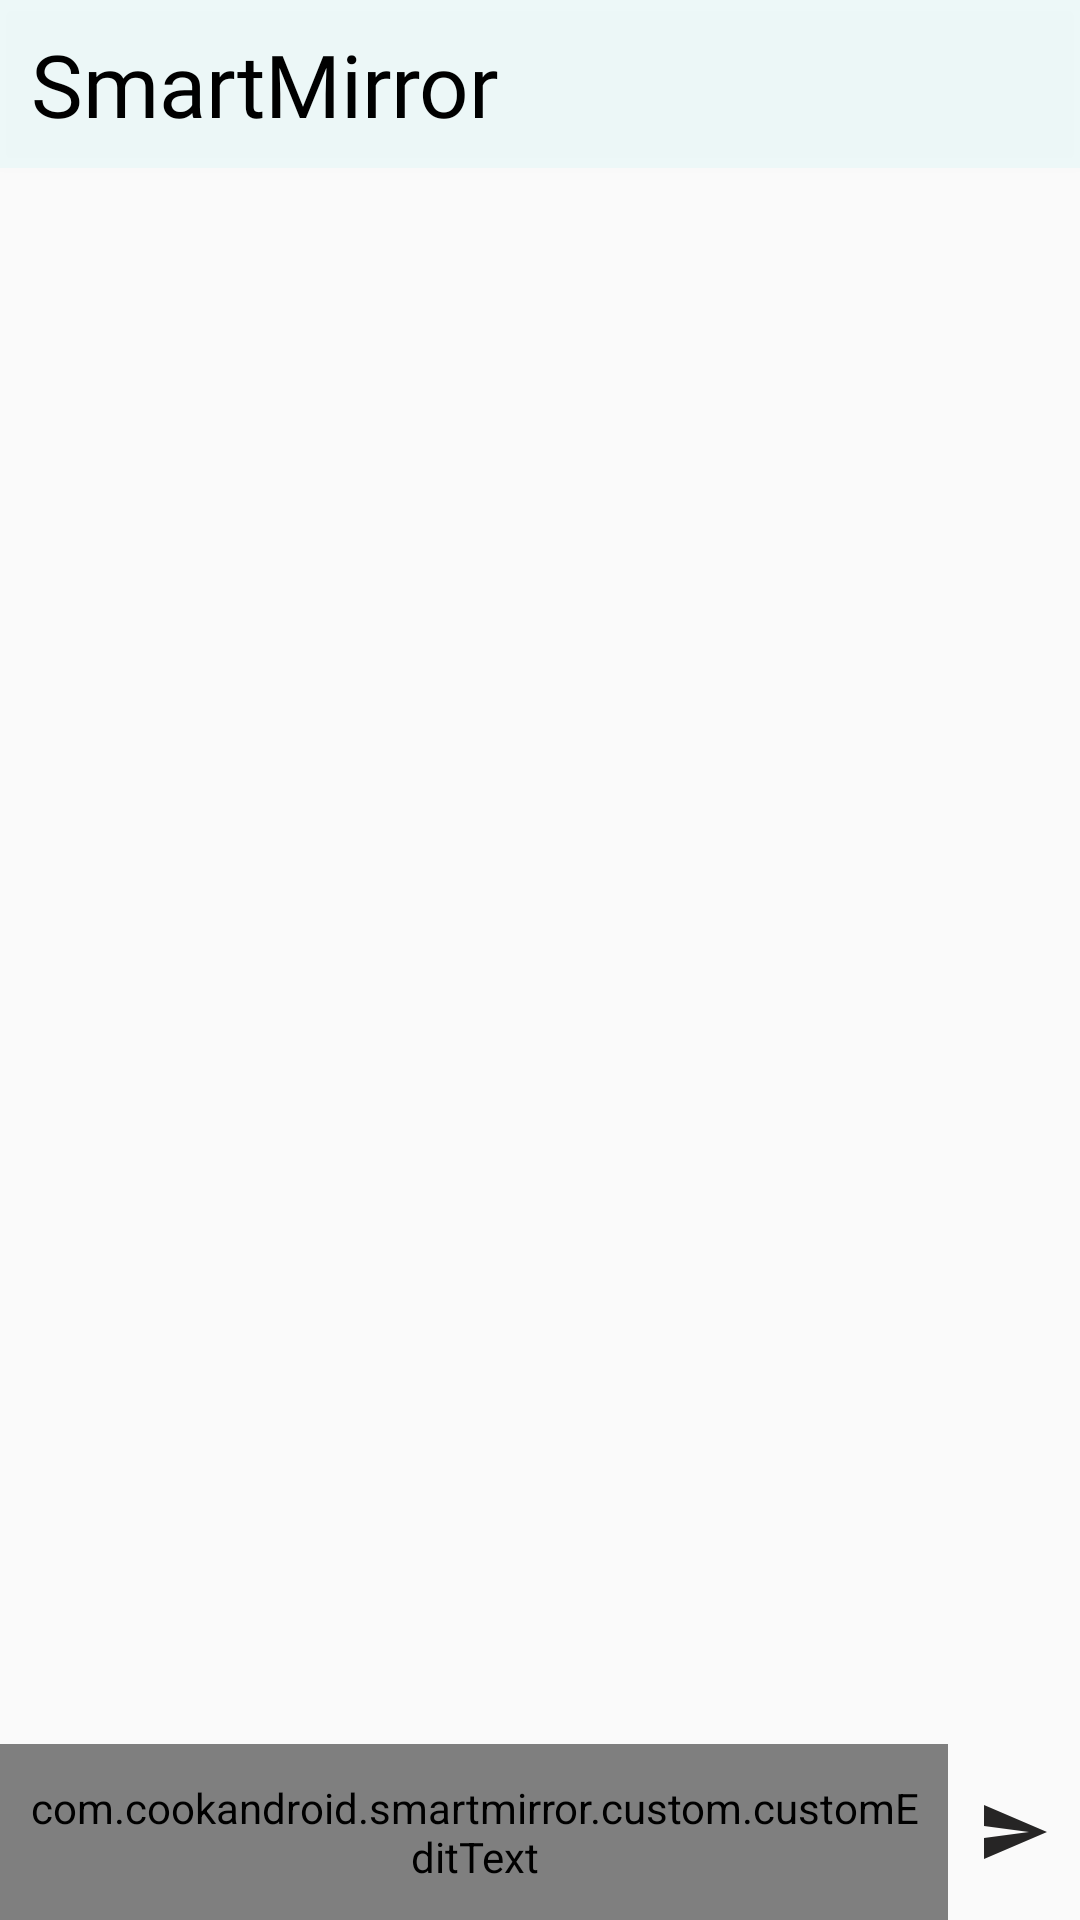

Locate icon controls on the screen. Image size 1080px x 1920px, boxes as (x1, y1, x2, y2).
send: (984, 1805, 1047, 1859)
